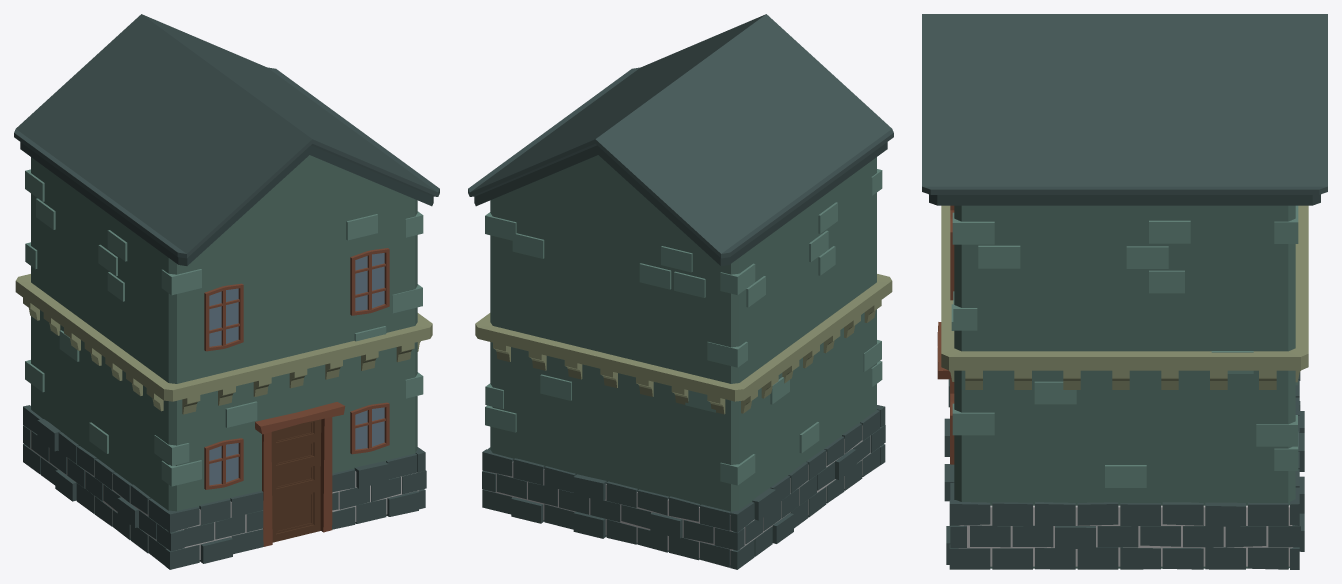
Rendered from 2Story_GableRoof_Mat.glb.
The picture shows the model from 3 angles, left to right: view 1: azimuth 30°, elevation 25°; view 2: azimuth 150°, elevation 25°; view 3: azimuth 270°, elevation 25°; orthographic projection. The views are drawn at different scales.
Visible parts, largest first — view 1: 2Story_GableRoof_Mat; view 2: 2Story_GableRoof_Mat; view 3: 2Story_GableRoof_Mat.
Part boxes in pixels (bbox=[...]): 2Story_GableRoof_Mat: bbox=[14, 14, 439, 569]; 2Story_GableRoof_Mat: bbox=[468, 14, 893, 569]; 2Story_GableRoof_Mat: bbox=[922, 14, 1327, 569].
Size of the model in its own units: 2.16 by 3.13 by 2.38.
